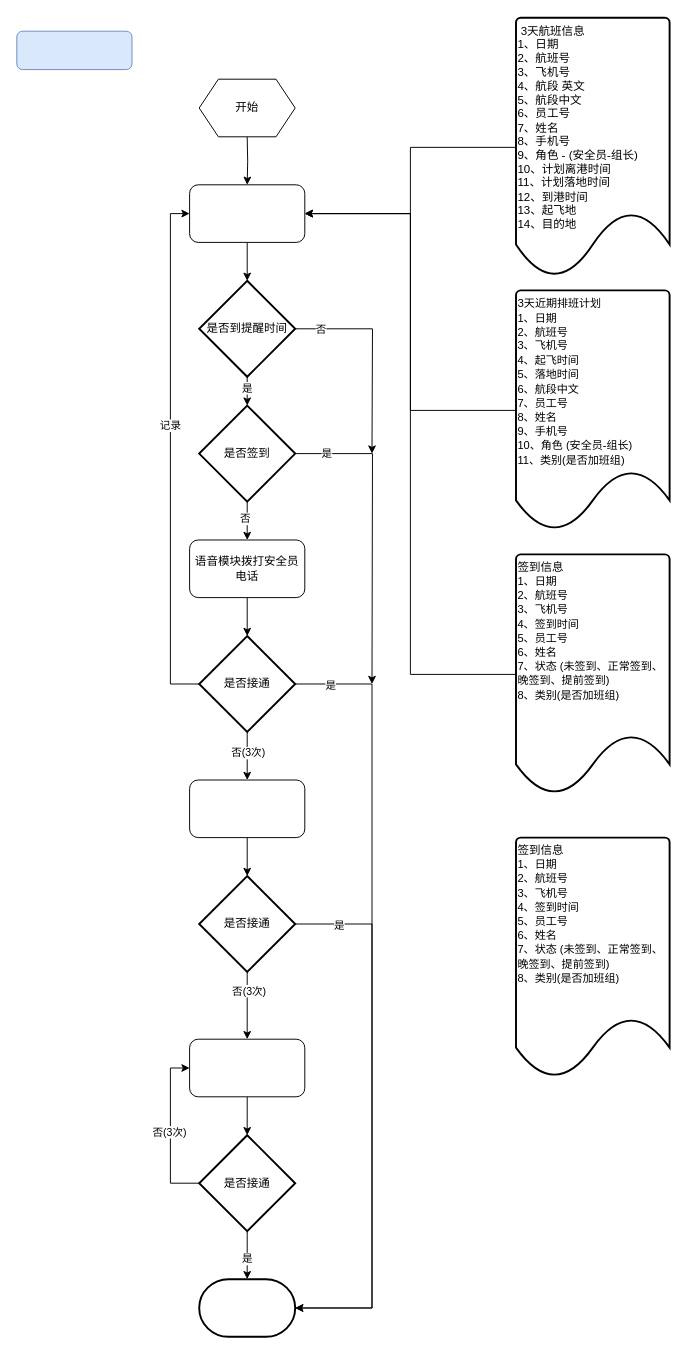
The diagram is 687 pixels wide and 1354 high, and some of its shapes have lost their labels. Each missing label, with the box of its shape:
拨打值班员电话: (189, 779, 305, 838)
拨打应急人员电话: (189, 1038, 305, 1097)
本地服务器每5分钟 调用一次接口: (189, 184, 305, 242)
结束: (198, 1278, 296, 1337)
领用提醒: (16, 30, 132, 70)
